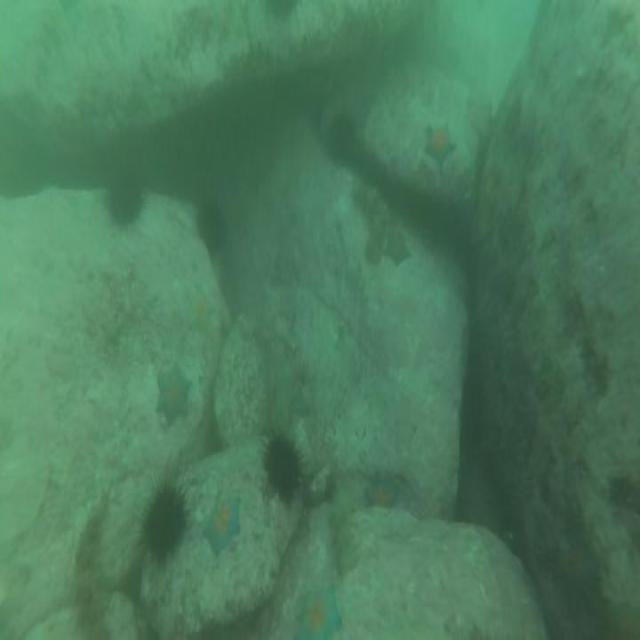echinus: (135, 474, 191, 571), (258, 424, 306, 506), (100, 163, 148, 234), (322, 108, 362, 170), (192, 199, 229, 261), (262, 0, 302, 27)
holothurian: (65, 486, 115, 640), (347, 175, 389, 268)
starfish: (294, 577, 348, 640), (200, 487, 244, 559), (154, 359, 194, 433), (181, 282, 219, 342), (420, 119, 460, 172), (362, 468, 402, 515), (383, 226, 413, 272)
